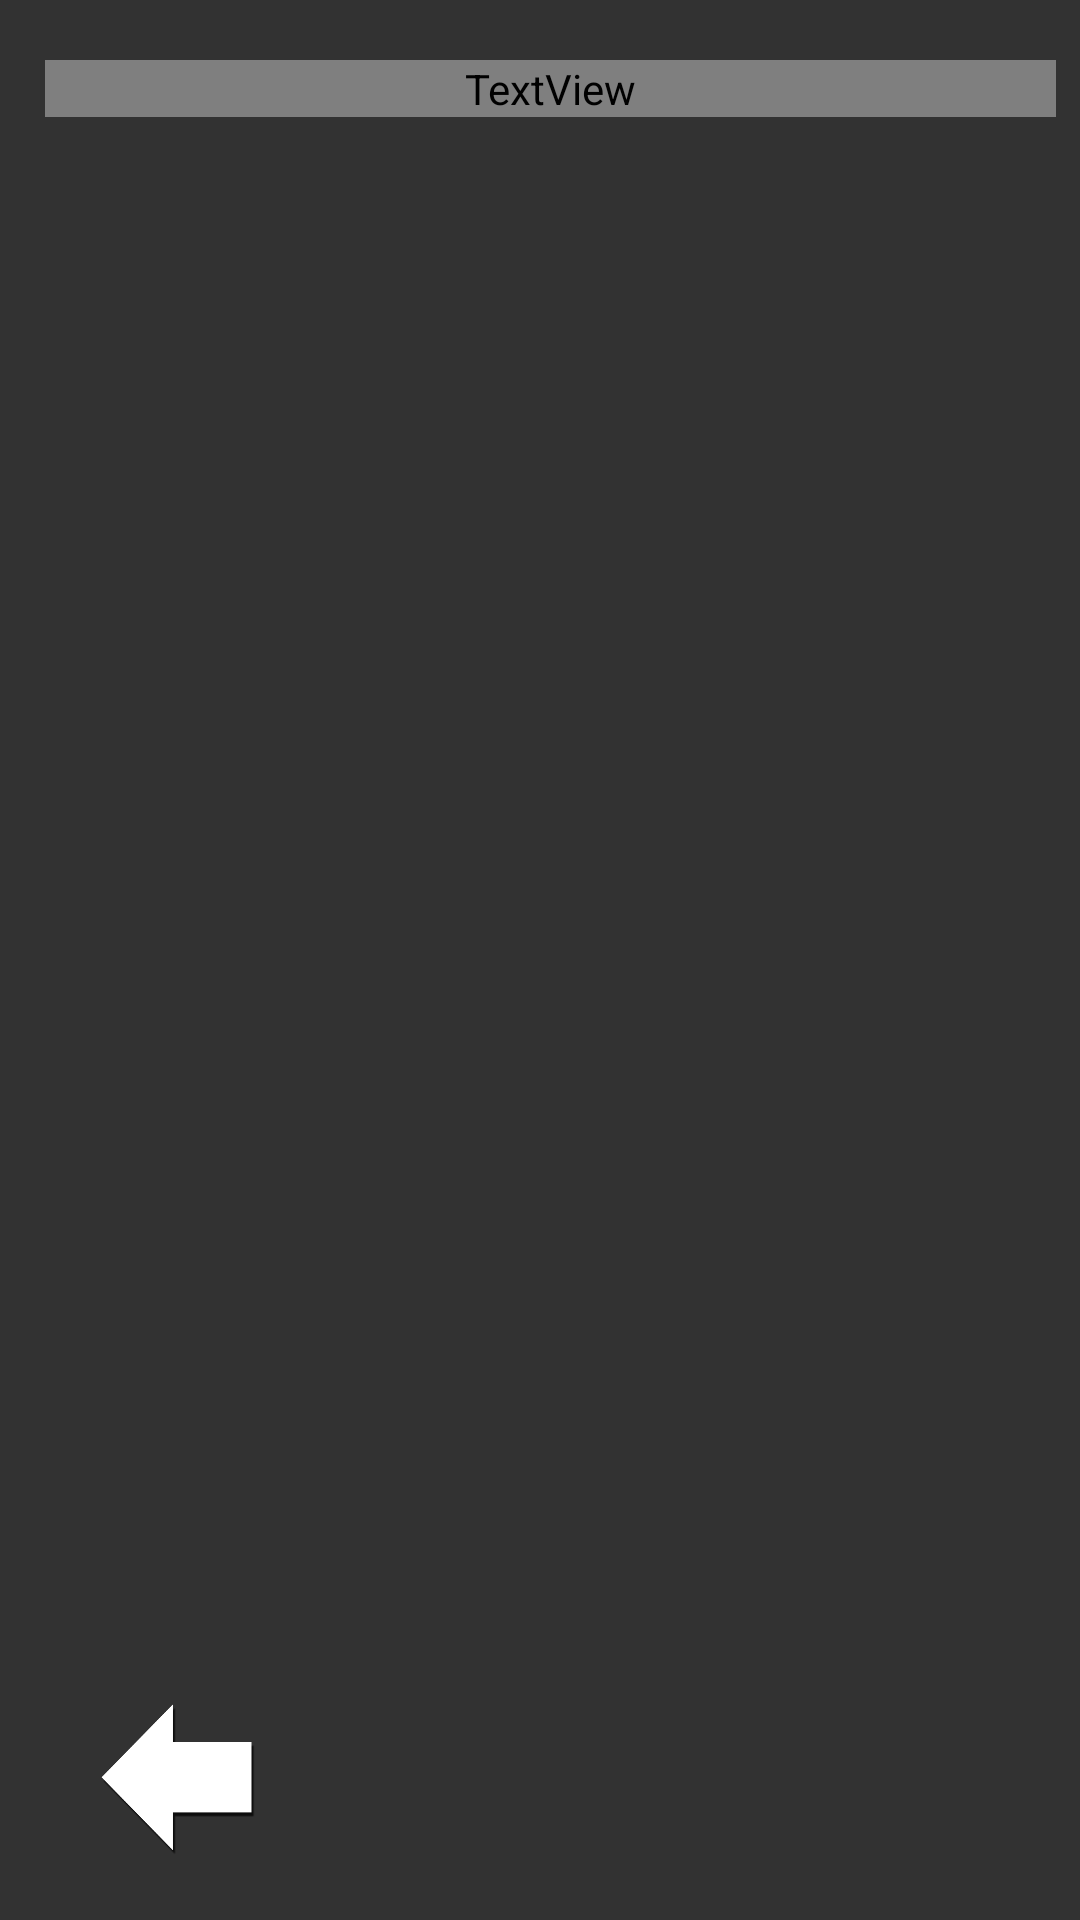

Screen size 1080×1920. Icon name, then its box in pixels as [x1,y1,x2,y2]:
helper exit: [101,1705,253,1852]
